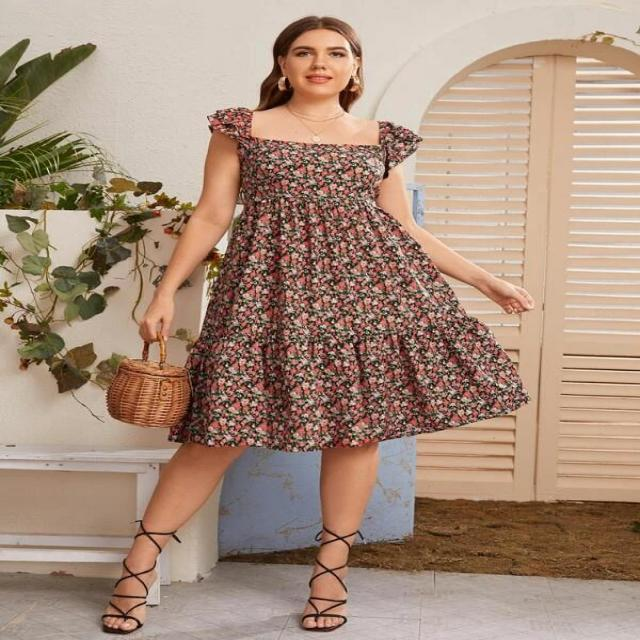female-dress: (185, 99, 520, 463)
